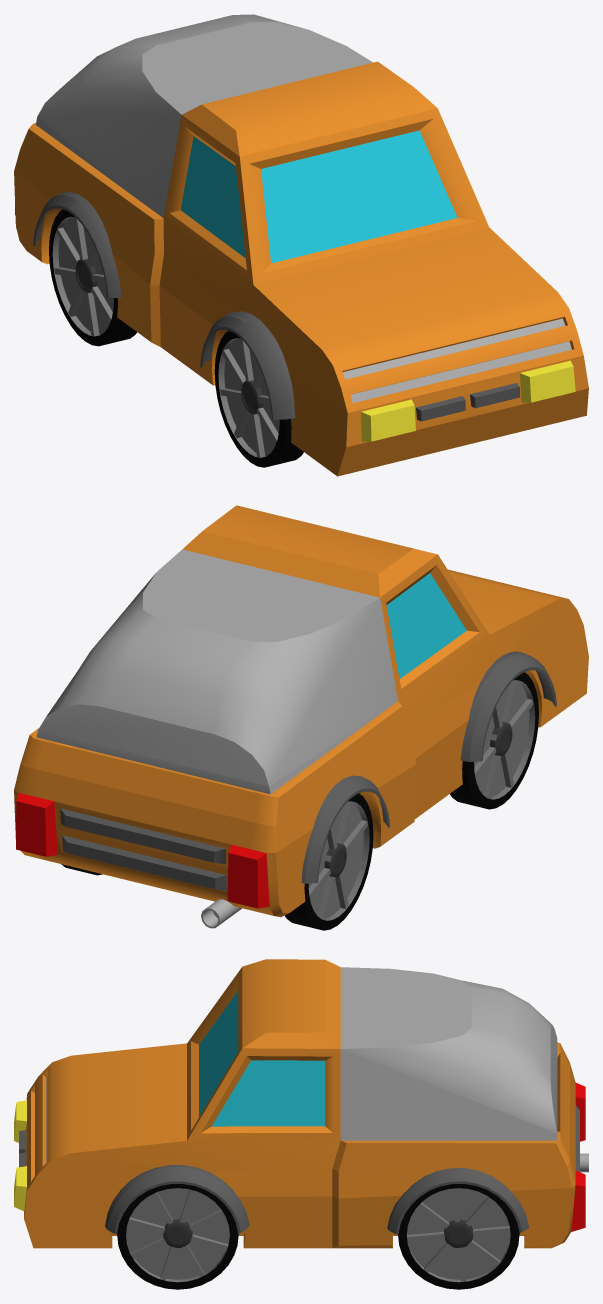
File: car 1.fbx
The picture shows the model from 3 angles, top to bottom: view 1: azimuth 30°, elevation 25°; view 2: azimuth 150°, elevation 25°; view 3: azimuth 270°, elevation 25°; orthographic projection. The views are drawn at different scales.
Visible parts, largest first — view 1: Car 1, Cylinder.012, Cylinder.013, Cylinder.016; view 2: Car 1, Cylinder.012, Cylinder.013, Cylinder.016; view 3: Car 1, Cylinder.014, Cylinder.015, Cylinder.016.
Boxes of the visible parts, <box> form: Car 1: <box>14,14,588,476</box>; Cylinder.012: <box>214,330,303,467</box>; Cylinder.013: <box>49,209,136,346</box>; Cylinder.016: <box>33,192,295,419</box>; Car 1: <box>14,505,588,928</box>; Cylinder.012: <box>450,672,538,809</box>; Cylinder.013: <box>284,793,373,930</box>; Cylinder.016: <box>301,651,556,883</box>; Car 1: <box>14,959,588,1248</box>; Cylinder.014: <box>117,1184,238,1289</box>; Cylinder.015: <box>398,1184,519,1289</box>; Cylinder.016: <box>105,1165,528,1234</box>.
Size of the model in its own units: 240 by 231 by 498.
